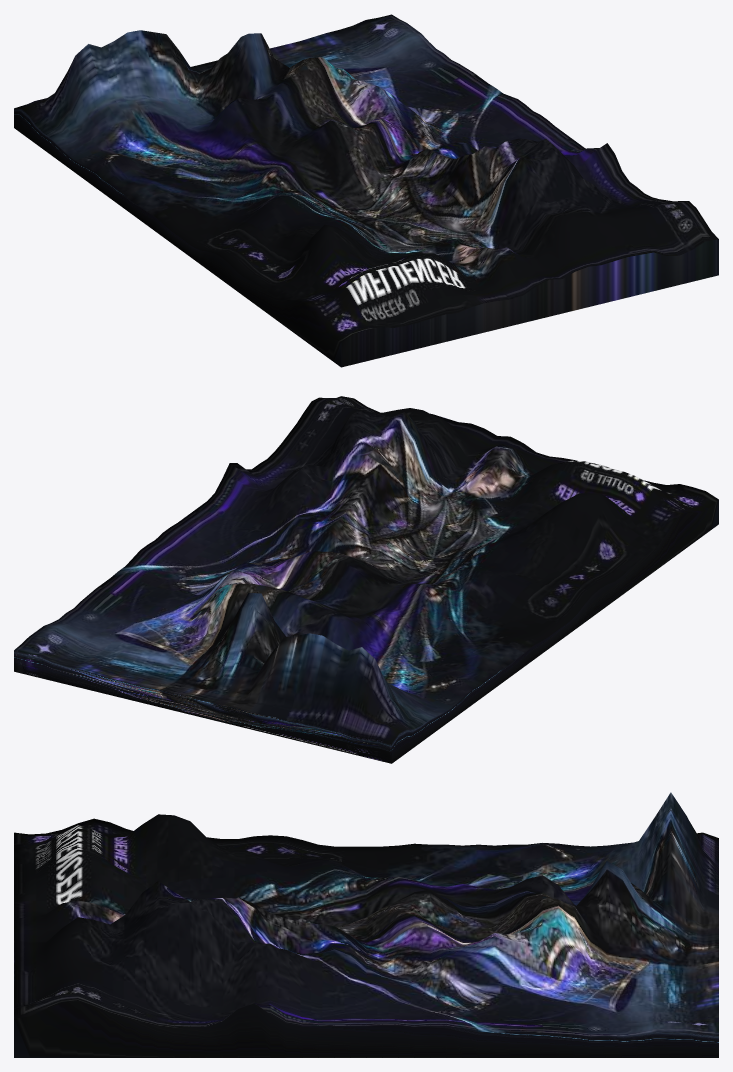
Rendered from CAREER_10_Outfit_05_Supreme.glb.
3 views of the same model, one above another, from view 1: azimuth 30°, elevation 25°; view 2: azimuth 150°, elevation 25°; view 3: azimuth 270°, elevation 25° (orthographic). The views are drawn at different scales.
Visible parts, largest first — view 1: CAREER_10_Outfit_05_Supreme; view 2: CAREER_10_Outfit_05_Supreme; view 3: CAREER_10_Outfit_05_Supreme.
Part boxes in pixels (left/top/right/bottom): CAREER_10_Outfit_05_Supreme: left=14, top=14, right=718, bottom=367; CAREER_10_Outfit_05_Supreme: left=14, top=396, right=718, bottom=763; CAREER_10_Outfit_05_Supreme: left=14, top=792, right=718, bottom=1057.
Size of the model in its own units: 2 by 0.51 by 3.
Materials: 1 (1 with a texture image).
